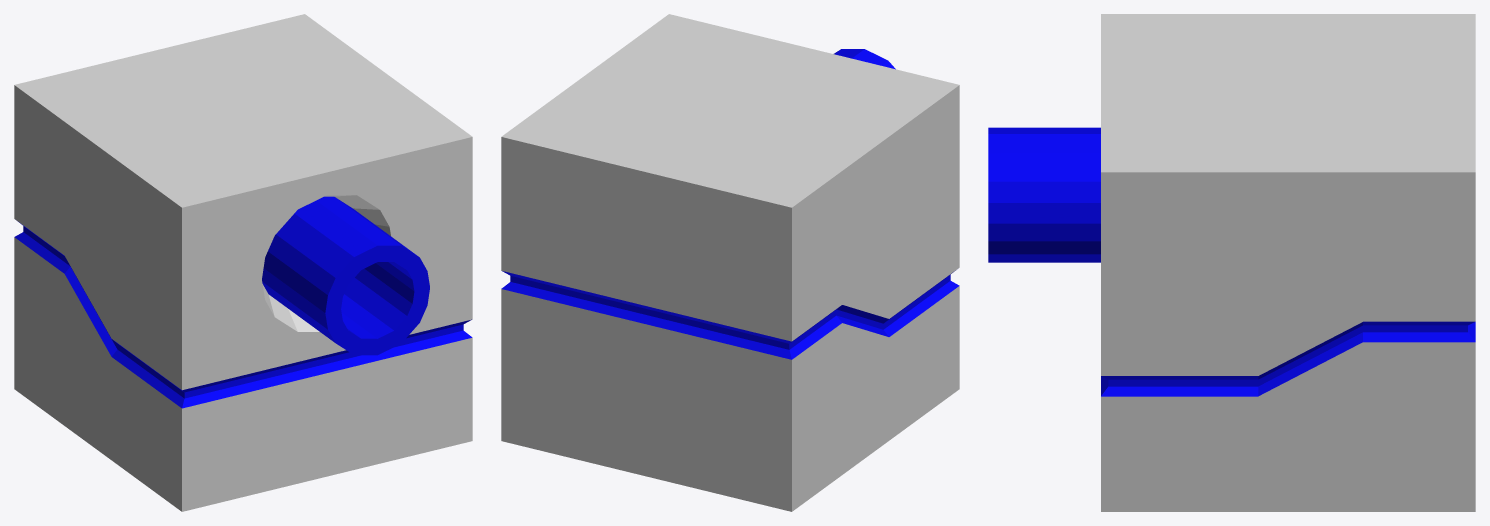
The model's file is Dron.glb.
3 views of the same model, side by side, from view 1: azimuth 30°, elevation 25°; view 2: azimuth 150°, elevation 25°; view 3: azimuth 270°, elevation 25° (orthographic). The views are drawn at different scales.
Parts seen in each view (by area): view 1: Dron; view 2: Dron; view 3: Dron.
Part boxes in pixels (bbox=[...]): Dron: bbox=[14, 14, 472, 511]; Dron: bbox=[501, 14, 959, 511]; Dron: bbox=[988, 14, 1475, 511].
Bounding box in the file's own units: 0.5 × 0.5 × 0.65.
